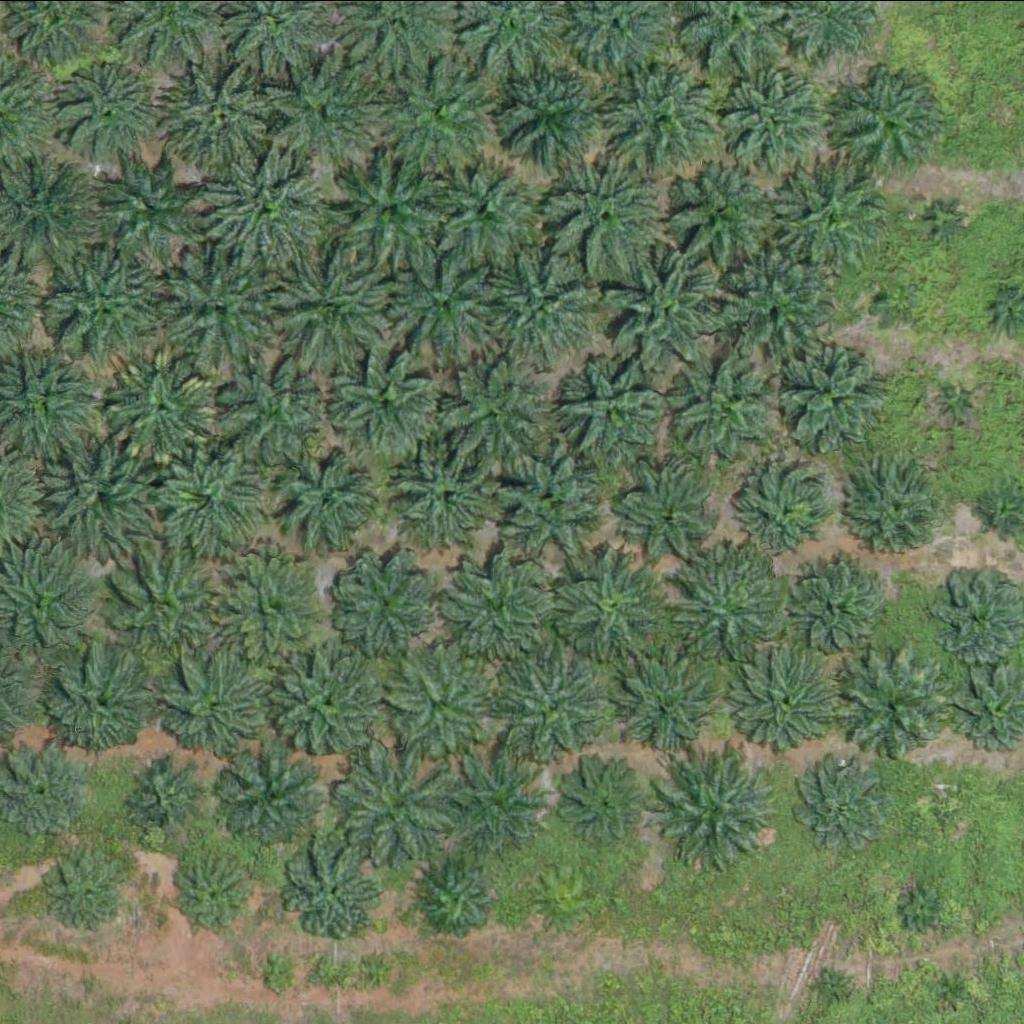Kelapa_Sawit: (157, 55, 283, 180), (268, 47, 394, 172), (203, 151, 329, 276), (38, 243, 164, 368), (158, 245, 284, 370), (273, 255, 399, 380), (332, 745, 458, 870), (652, 752, 778, 877), (666, 342, 792, 467), (381, 239, 507, 364), (475, 241, 601, 366), (610, 246, 736, 371), (725, 246, 851, 371), (320, 149, 446, 274), (419, 145, 545, 270), (540, 149, 666, 274), (653, 159, 779, 284), (375, 57, 501, 182), (667, 540, 792, 665), (714, 69, 828, 182), (607, 57, 721, 170), (108, 548, 221, 661), (214, 554, 327, 667), (275, 642, 388, 755), (159, 652, 272, 765), (43, 642, 156, 755), (325, 544, 438, 657), (395, 436, 508, 549), (835, 653, 948, 766), (440, 549, 553, 662), (553, 549, 666, 662), (491, 451, 604, 564), (781, 337, 894, 450), (833, 65, 946, 178), (495, 54, 608, 167), (442, 358, 556, 470), (104, 350, 217, 462), (220, 351, 333, 463), (273, 444, 386, 556), (149, 444, 262, 556), (47, 437, 160, 549), (329, 343, 442, 455), (391, 645, 504, 757), (442, 744, 555, 856), (498, 649, 611, 761), (731, 647, 844, 759), (555, 356, 668, 468), (781, 159, 894, 271), (56, 60, 157, 160), (224, 745, 325, 845), (791, 756, 892, 856), (619, 653, 720, 753), (791, 555, 892, 655), (619, 465, 720, 565), (736, 463, 837, 563), (849, 465, 950, 565), (97, 158, 197, 258), (287, 841, 387, 941), (45, 844, 133, 932), (173, 846, 261, 934), (556, 757, 644, 844), (421, 860, 497, 935), (128, 758, 203, 833), (919, 196, 969, 246), (934, 380, 984, 430), (865, 277, 915, 327), (932, 968, 970, 1006), (813, 967, 851, 1005), (264, 954, 302, 991), (926, 782, 963, 820), (906, 887, 944, 924)
